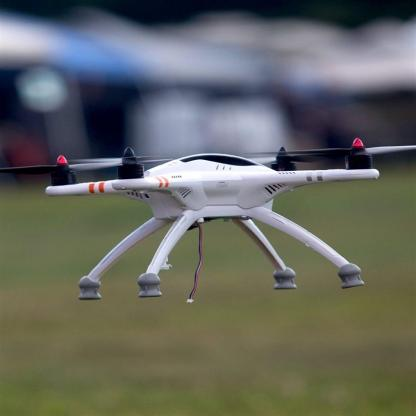drone: (9, 137, 416, 242)
